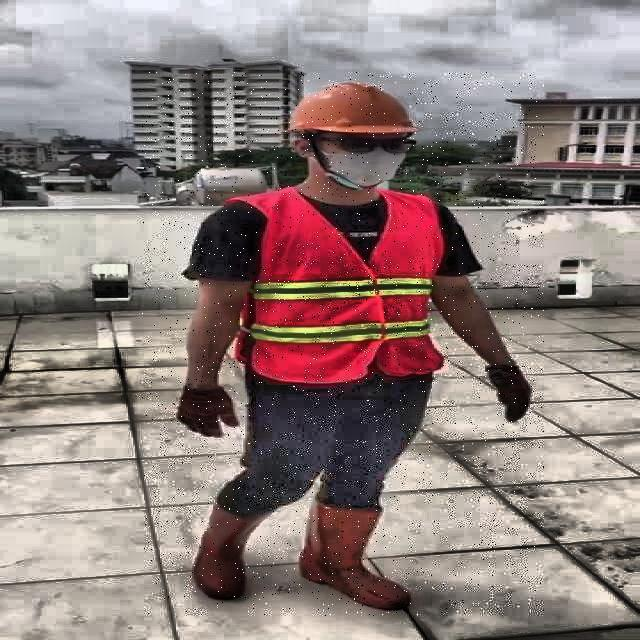safety_helmet: (284, 79, 422, 140)
safety_jacket: (244, 192, 442, 382)
